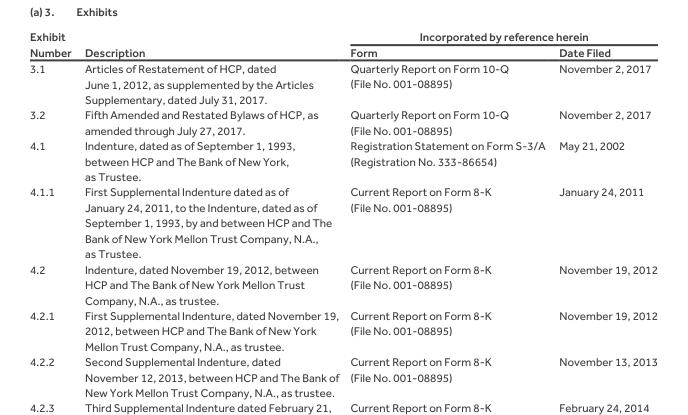table: (28, 29, 657, 383)
table column: (77, 29, 343, 383), (343, 29, 551, 383), (551, 29, 657, 383), (28, 29, 77, 383)
table column header: (28, 29, 657, 59)
table row: (28, 183, 657, 260), (28, 59, 657, 106), (28, 260, 657, 307), (28, 137, 657, 183), (28, 307, 657, 353), (28, 106, 657, 137), (28, 353, 657, 383), (28, 29, 657, 44), (28, 44, 657, 59)
table spanning cell: (77, 29, 343, 59), (343, 29, 657, 44), (28, 29, 77, 59)
